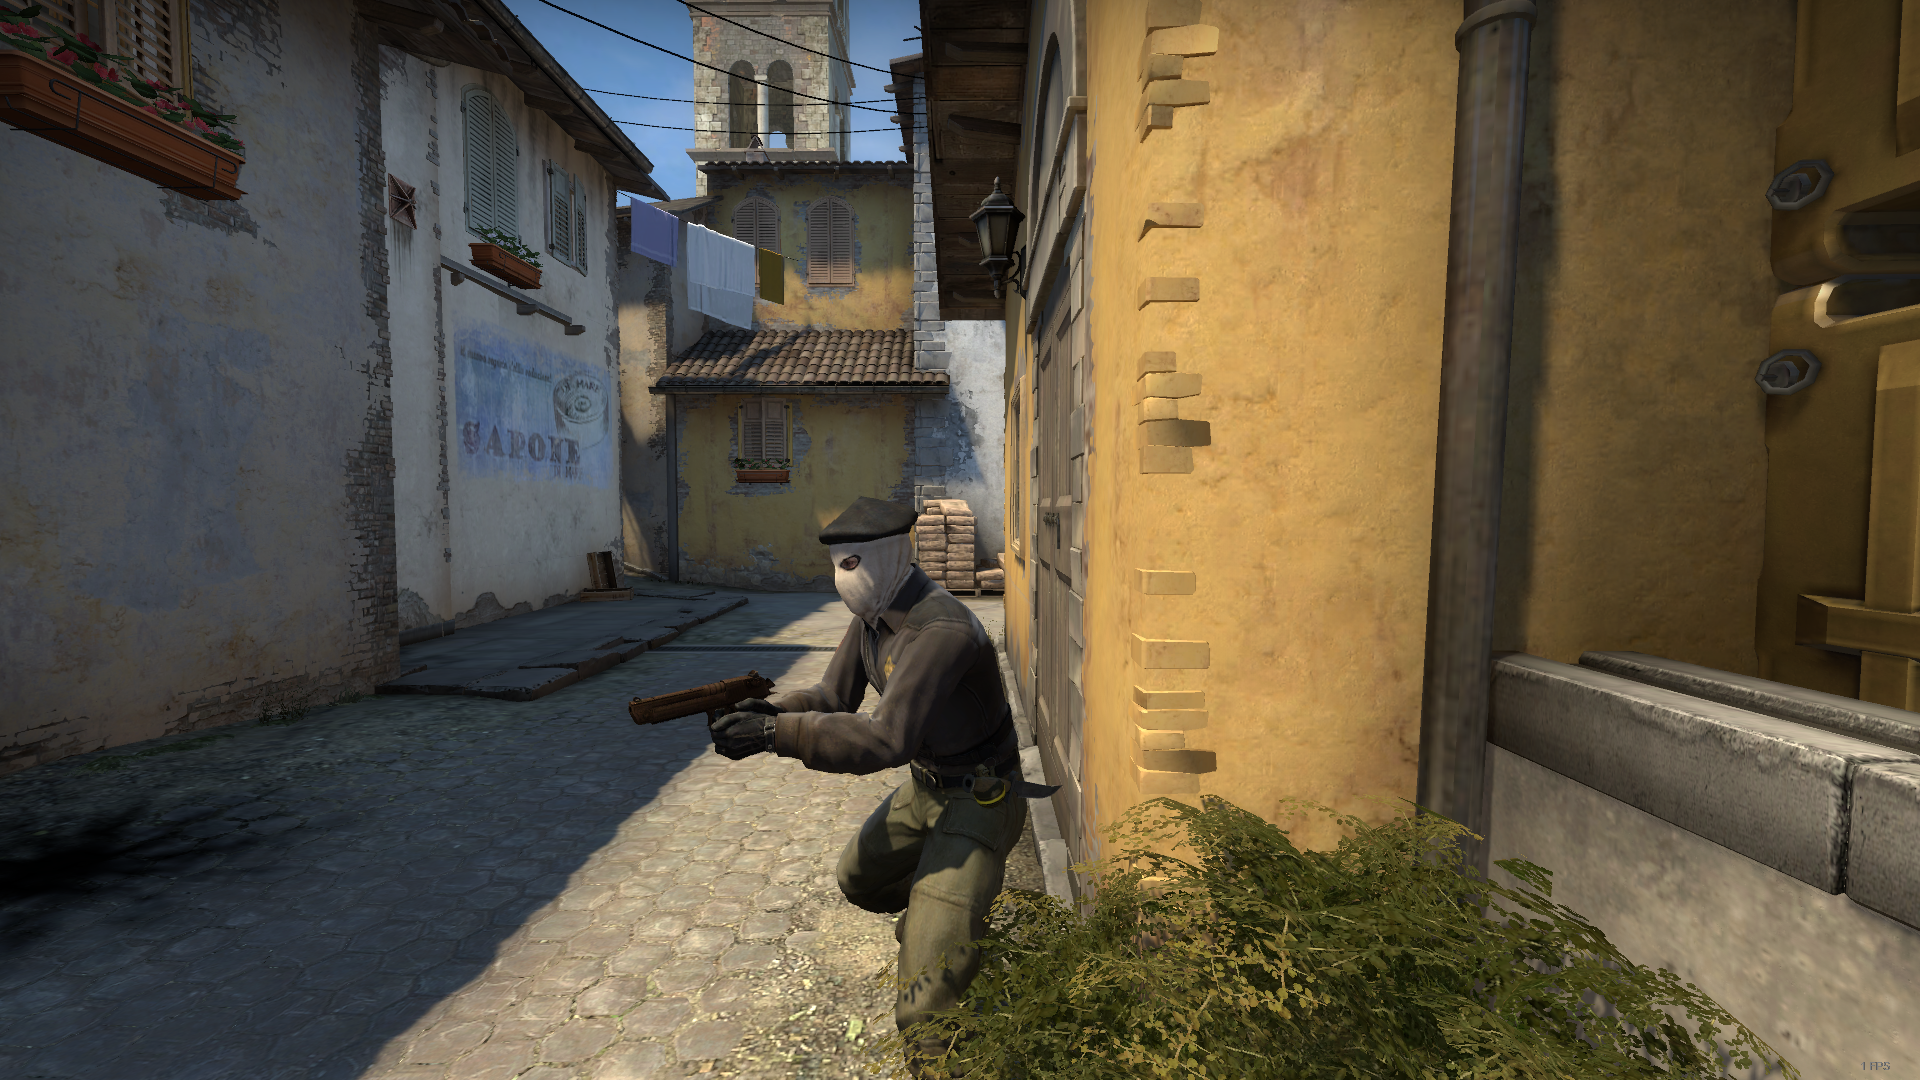t: (699, 495, 1075, 1080)
